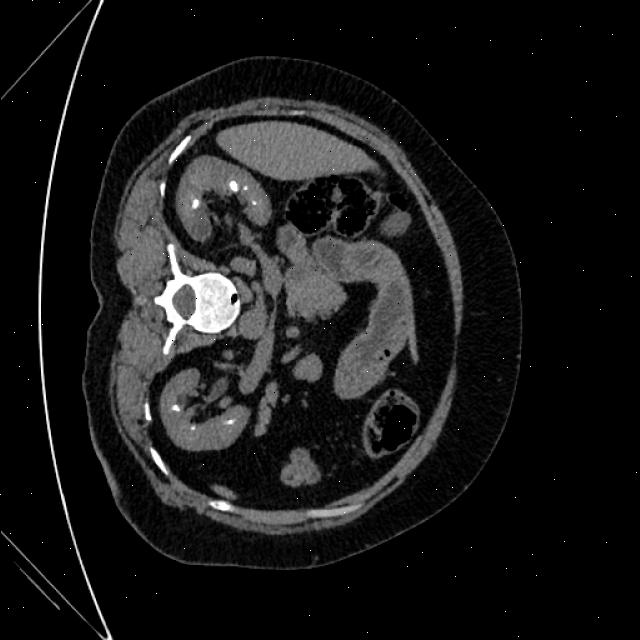kidneystone: (228, 180, 238, 192), (223, 418, 236, 426), (191, 199, 199, 209), (171, 404, 180, 411), (189, 425, 198, 430), (242, 185, 248, 191), (251, 200, 258, 205)
